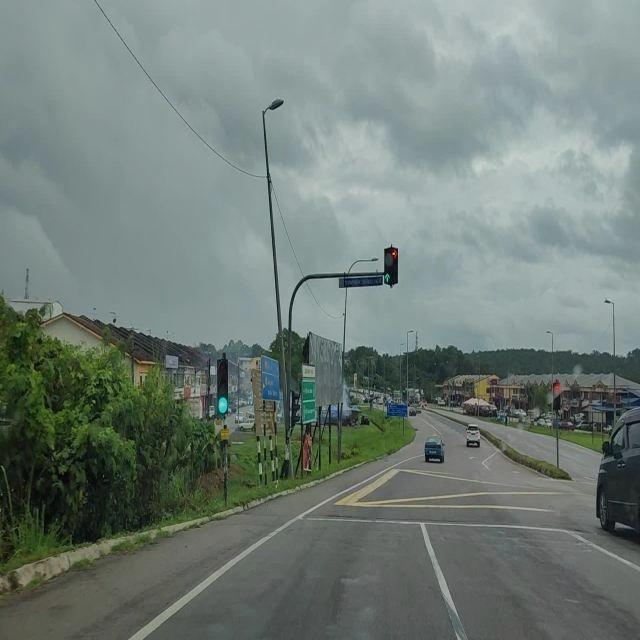Green: (217, 358, 228, 416), (384, 247, 392, 283)
Red: (392, 248, 398, 283), (553, 382, 560, 409)
